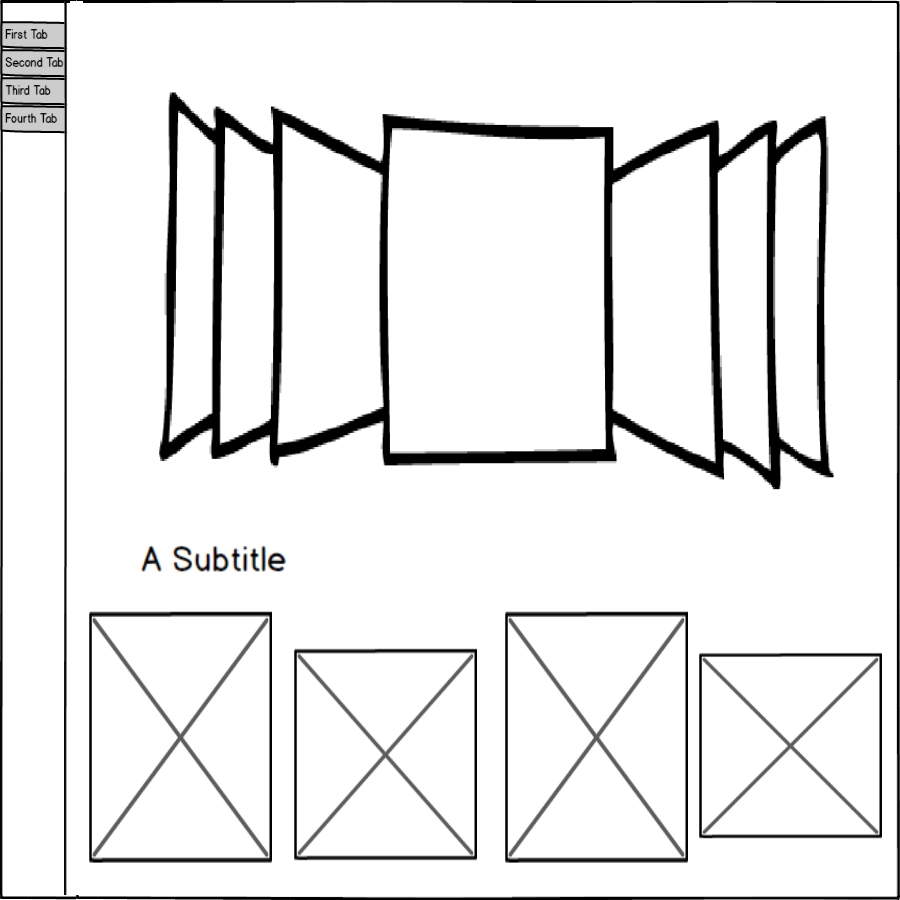h1: (122, 541, 311, 586)
image: (85, 607, 276, 864), (504, 608, 692, 864), (287, 644, 482, 869), (697, 649, 890, 843)
sidebar: (1, 15, 78, 147)
slideshow: (133, 85, 844, 508)
